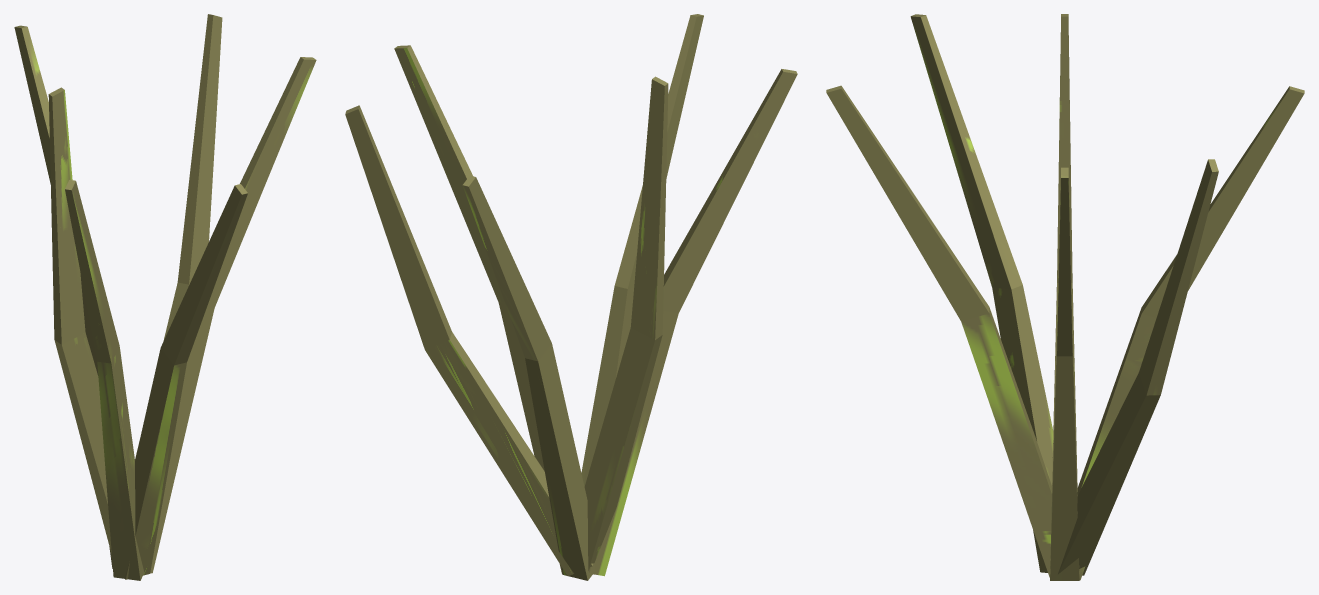
The model's file is Tuft2.fbx.
3 renders of one model, left to right at view 1: azimuth 30°, elevation 25°; view 2: azimuth 150°, elevation 25°; view 3: azimuth 270°, elevation 25°, orthographic. The views are drawn at different scales.
Visible parts, largest first — view 1: Grass Tuft; view 2: Grass Tuft; view 3: Grass Tuft.
Part boxes in pixels (x1,y1,x2,y2): Grass Tuft: [14, 14, 316, 580]; Grass Tuft: [345, 14, 797, 580]; Grass Tuft: [826, 14, 1304, 580].
Size of the model in its own units: 62.65 by 93.15 by 77.29.
Materials: 1 (1 with a texture image).
